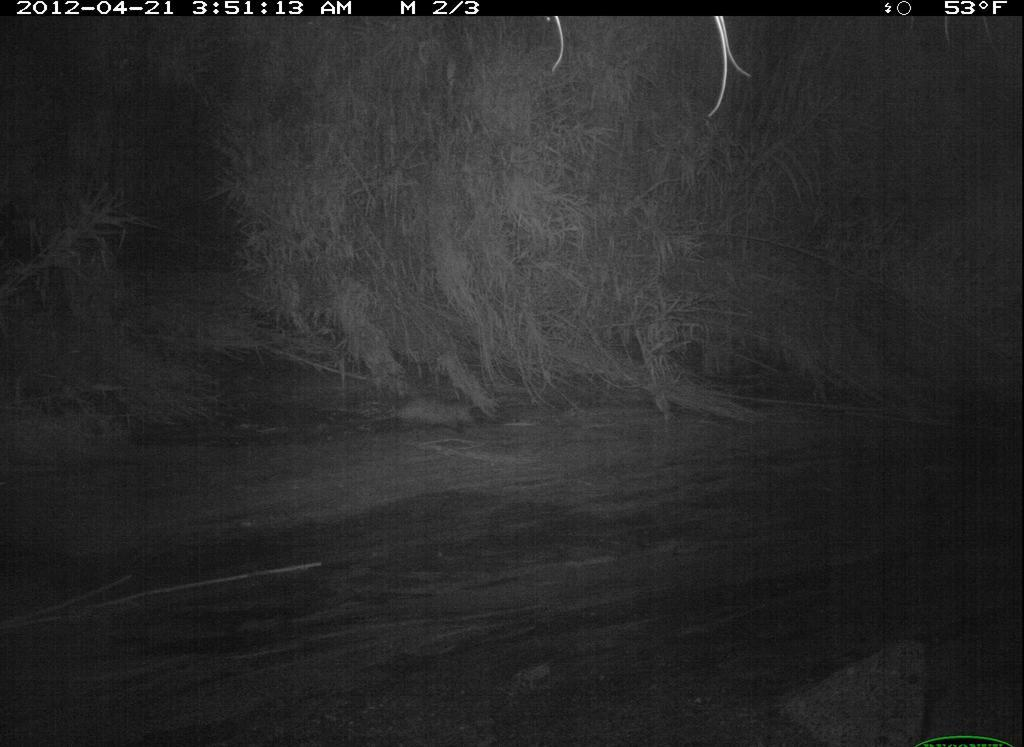opossum: (355, 376, 493, 452)
